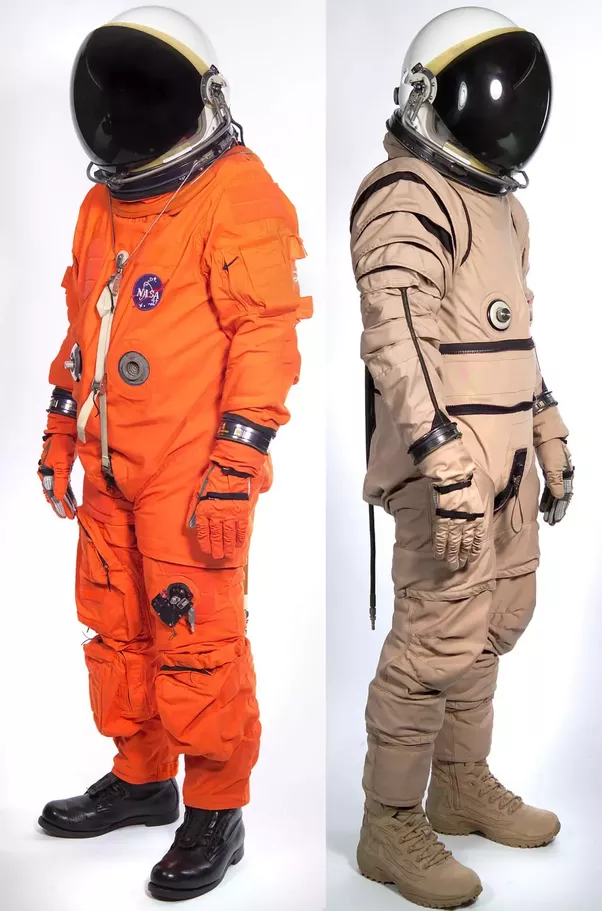NASA: (129, 271, 172, 311)
